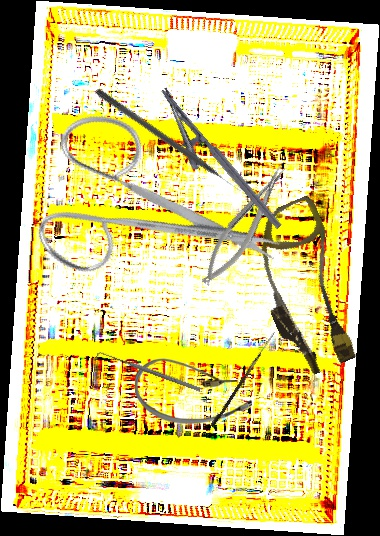Cannula: (233, 193, 377, 382), (135, 358, 252, 424)
Hook Surgical: (210, 329, 275, 429), (95, 348, 202, 397)
Iris Scissors: (3, 65, 290, 338)
Needle Holder: (141, 86, 283, 246), (191, 160, 299, 292)
Pusher: (93, 87, 243, 196)
